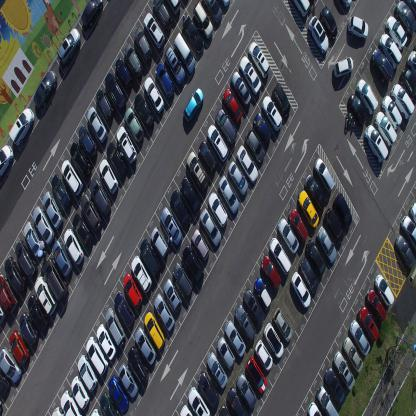car: (42, 257, 69, 302), (8, 106, 34, 146), (33, 274, 57, 316), (33, 69, 57, 110), (238, 54, 262, 95), (364, 124, 388, 165), (186, 150, 209, 192), (134, 324, 157, 366), (173, 32, 196, 74), (181, 244, 204, 285), (14, 239, 37, 280), (86, 336, 109, 377), (390, 82, 415, 119), (333, 349, 355, 391), (236, 144, 259, 184), (269, 236, 292, 276), (57, 26, 80, 66), (297, 189, 320, 229), (217, 174, 239, 215), (160, 206, 182, 247), (139, 237, 161, 278), (4, 255, 26, 296), (192, 0, 214, 41), (247, 40, 270, 79), (355, 78, 379, 115), (374, 110, 398, 147), (115, 125, 137, 165), (234, 302, 256, 342), (242, 286, 264, 326), (207, 122, 229, 162), (215, 106, 237, 146), (200, 207, 222, 247), (104, 70, 126, 110), (164, 46, 186, 86), (324, 366, 346, 406), (80, 195, 103, 233), (51, 240, 74, 278), (60, 157, 83, 195), (32, 205, 55, 243), (142, 12, 165, 50), (379, 32, 402, 70), (170, 190, 191, 231), (105, 307, 126, 348), (106, 140, 128, 179), (144, 310, 165, 350), (42, 190, 63, 230), (27, 293, 48, 333), (69, 140, 91, 178), (22, 220, 44, 258), (8, 328, 30, 366), (206, 352, 228, 390), (182, 86, 204, 124), (230, 70, 252, 108), (304, 174, 326, 212), (394, 233, 416, 271), (342, 336, 364, 374), (131, 254, 152, 293), (154, 293, 175, 332), (225, 319, 246, 358), (108, 374, 129, 413), (198, 370, 219, 409), (86, 105, 108, 142), (71, 212, 93, 249), (0, 347, 22, 384), (278, 218, 300, 255), (357, 305, 379, 342), (90, 177, 110, 217), (118, 362, 139, 400), (247, 356, 268, 394), (236, 371, 257, 409), (143, 76, 164, 114), (290, 270, 311, 308), (381, 93, 402, 131), (386, 14, 408, 50), (364, 286, 386, 322), (180, 176, 200, 215), (96, 322, 116, 361), (306, 239, 326, 278), (308, 15, 328, 54), (124, 107, 145, 144), (113, 290, 134, 327), (51, 172, 72, 209), (133, 93, 154, 130), (183, 17, 204, 54), (349, 320, 371, 355), (123, 272, 143, 310), (64, 227, 84, 265), (99, 158, 119, 196), (78, 354, 98, 392), (299, 256, 319, 294), (0, 272, 18, 314), (261, 95, 282, 131), (227, 160, 248, 196), (314, 156, 335, 192), (172, 260, 192, 297), (223, 86, 243, 123), (208, 192, 228, 229), (264, 322, 284, 359), (155, 62, 175, 99), (324, 207, 344, 244), (317, 226, 337, 263), (372, 47, 392, 84), (316, 384, 339, 416), (395, 0, 416, 35), (273, 306, 293, 342), (123, 43, 143, 79), (288, 206, 308, 242), (128, 344, 150, 376), (133, 26, 152, 63), (261, 254, 281, 289), (244, 128, 264, 163), (318, 5, 338, 40), (374, 273, 395, 306), (19, 311, 38, 347), (71, 374, 90, 410), (272, 82, 291, 118), (152, 0, 172, 34), (334, 191, 352, 228), (198, 139, 217, 174), (78, 124, 97, 158), (191, 228, 210, 262), (253, 275, 272, 309), (216, 335, 235, 369), (114, 57, 133, 91), (80, 0, 103, 28), (254, 339, 274, 371), (400, 66, 416, 106), (188, 386, 210, 415), (226, 386, 248, 415), (253, 111, 272, 144), (348, 94, 367, 127), (164, 277, 182, 311), (400, 214, 416, 252), (96, 87, 113, 121), (150, 226, 168, 258), (60, 389, 82, 415), (332, 55, 354, 80), (346, 15, 368, 40), (202, 0, 222, 27), (0, 143, 14, 181), (99, 391, 119, 416), (290, 0, 311, 18), (406, 50, 416, 80), (164, 0, 181, 16), (0, 370, 10, 397), (308, 400, 321, 416), (408, 199, 416, 224), (218, 403, 230, 415), (337, 0, 353, 9), (179, 404, 192, 415), (51, 405, 65, 415), (216, 0, 231, 9), (0, 304, 6, 326), (90, 408, 102, 416)
